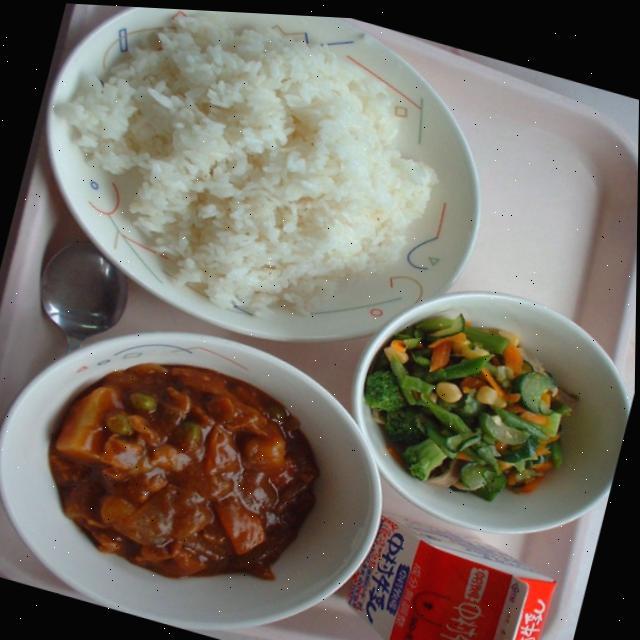米饭主食: (4, 0, 531, 392)
